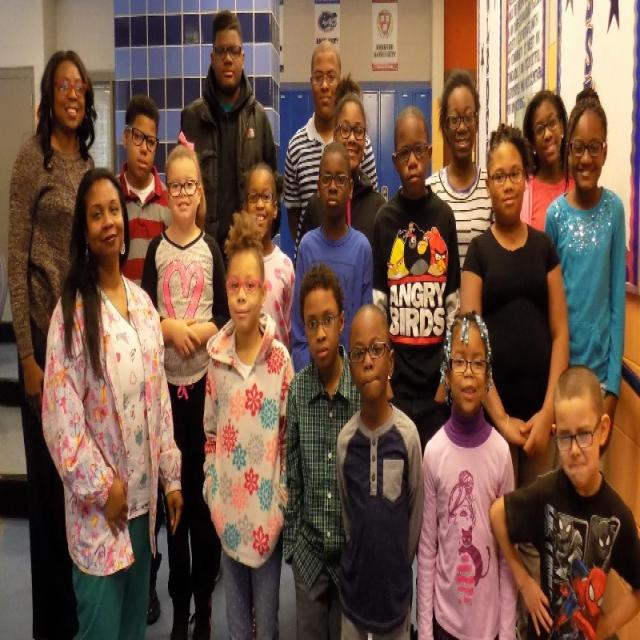body: (40, 162, 186, 640), (459, 123, 569, 640), (4, 41, 99, 639), (140, 129, 232, 640), (487, 361, 639, 638), (202, 214, 296, 640), (414, 308, 522, 640), (368, 101, 464, 464), (113, 91, 174, 628), (280, 262, 364, 640), (544, 85, 626, 457), (334, 302, 424, 640), (176, 4, 280, 276), (281, 37, 381, 262), (290, 139, 374, 378), (293, 71, 387, 272), (420, 65, 498, 282), (238, 156, 298, 366), (518, 87, 578, 237)
